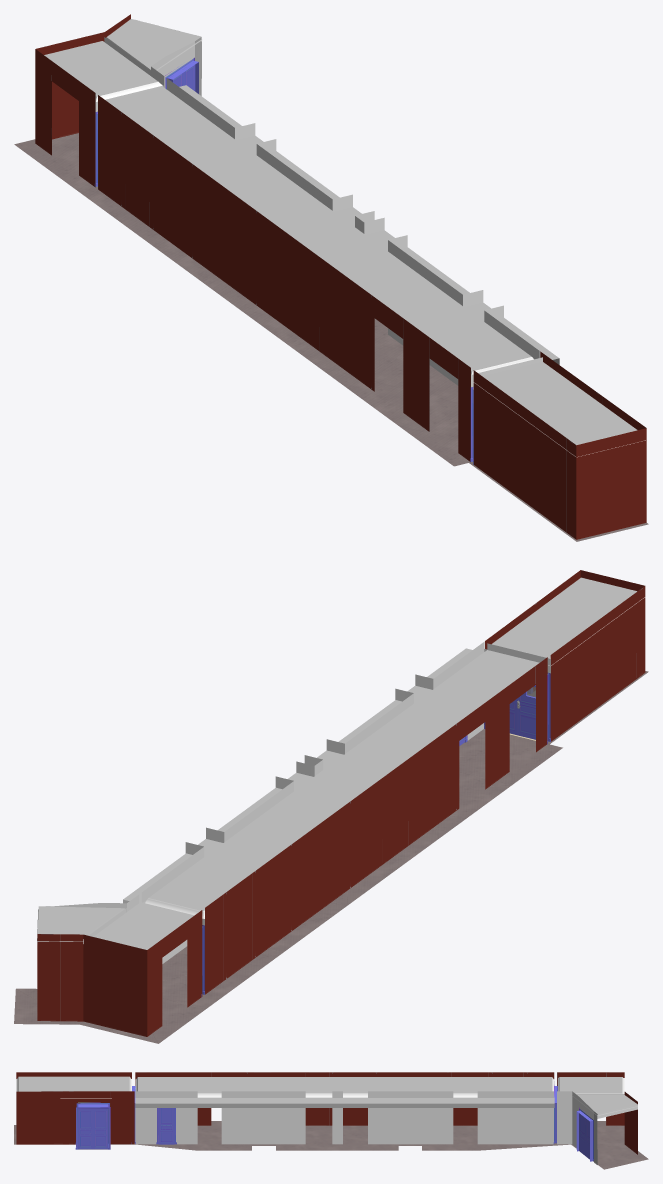
Rendered from Hallway_Left.fbx.
3 renders of one model, top to bottom at view 1: azimuth 30°, elevation 25°; view 2: azimuth 150°, elevation 25°; view 3: azimuth 270°, elevation 25°, orthographic. The views are drawn at different scales.
Parts seen in each view (by area): view 1: polySurface333; view 2: polySurface333, polySurface257; view 3: polySurface333, polySurface334, polySurface257.
Part boxes in pixels (x1,y1,x2,y2): polySurface333: [14, 14, 648, 541]; polySurface333: [14, 570, 648, 1043]; polySurface257: [201, 672, 550, 996]; polySurface333: [14, 1072, 648, 1169]; polySurface334: [75, 1102, 593, 1161]; polySurface257: [131, 1085, 557, 1144].
Bounding box in the file's own units: 569 × 294 × 3128.
